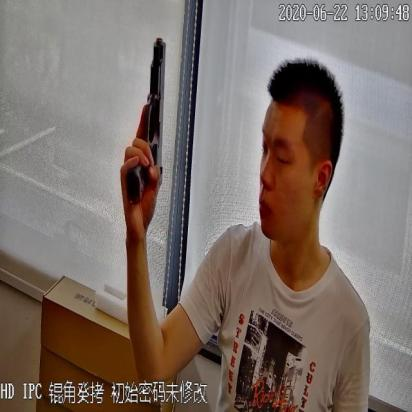Gun: (119, 38, 171, 204)
